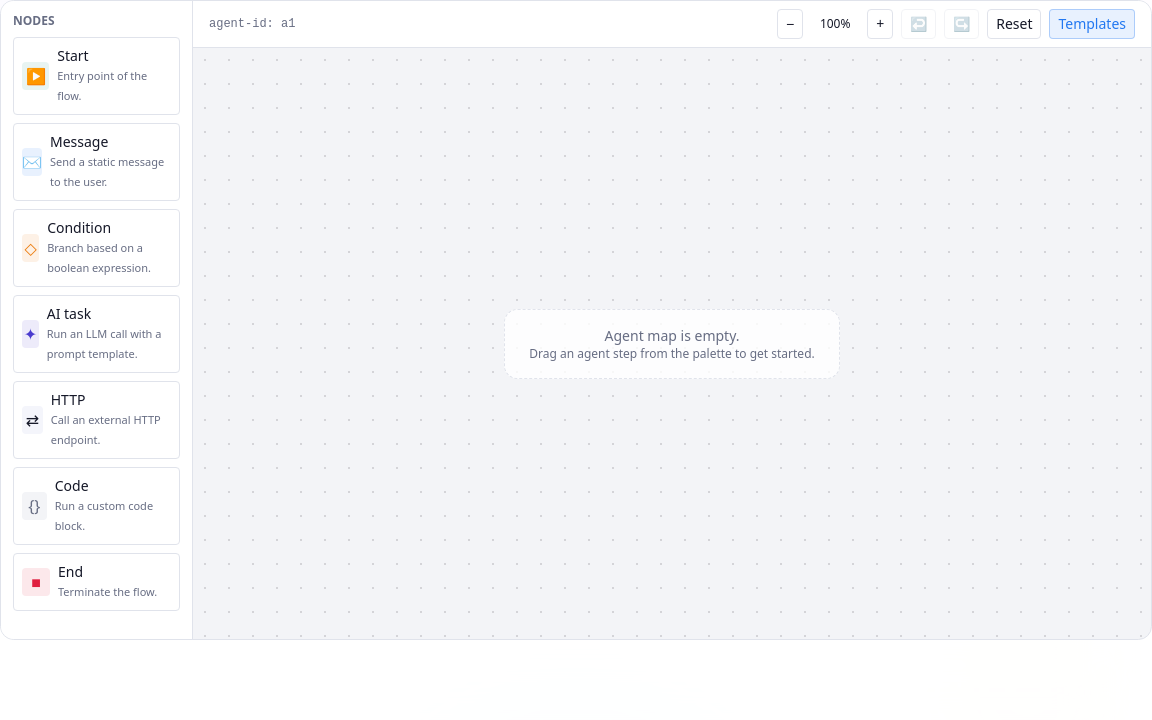
Test: FlowEditor Templates button › opens template picker when Templates button is clicked
This screenshot has width=1152, height=720.
Click the button with test id "flow-templates". click: (1092, 24)
box: [1050,9,1135,39]
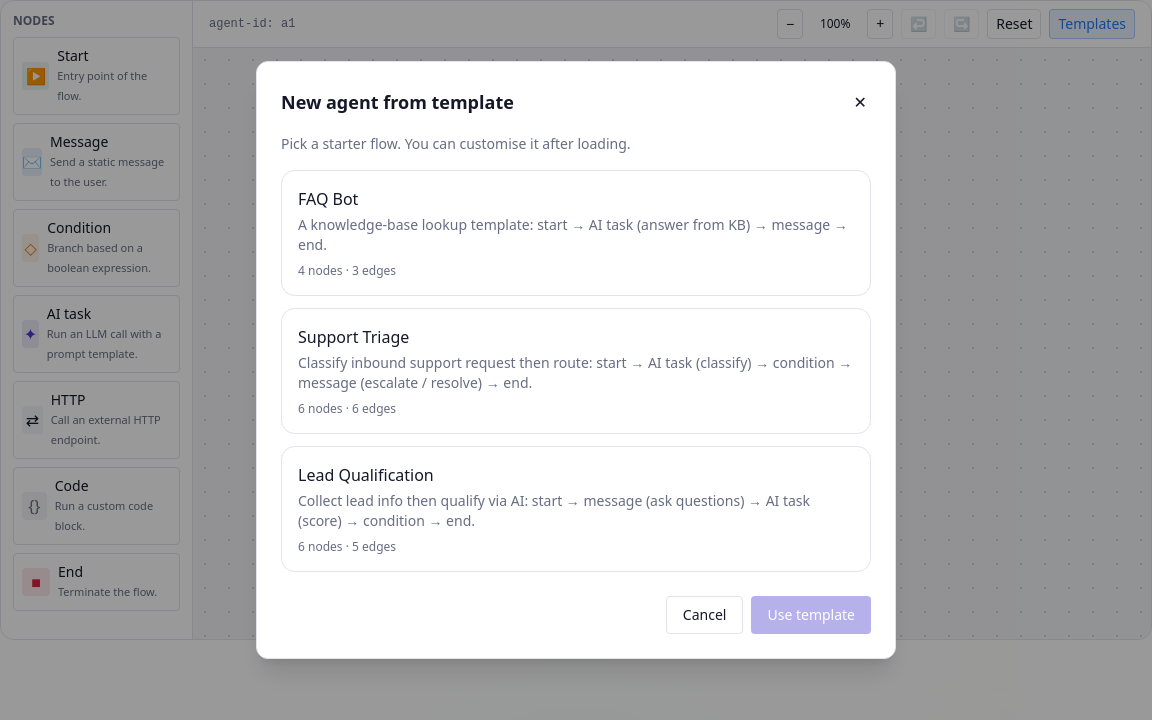
Result: the dialog with test id "flow-template-picker" is shown
